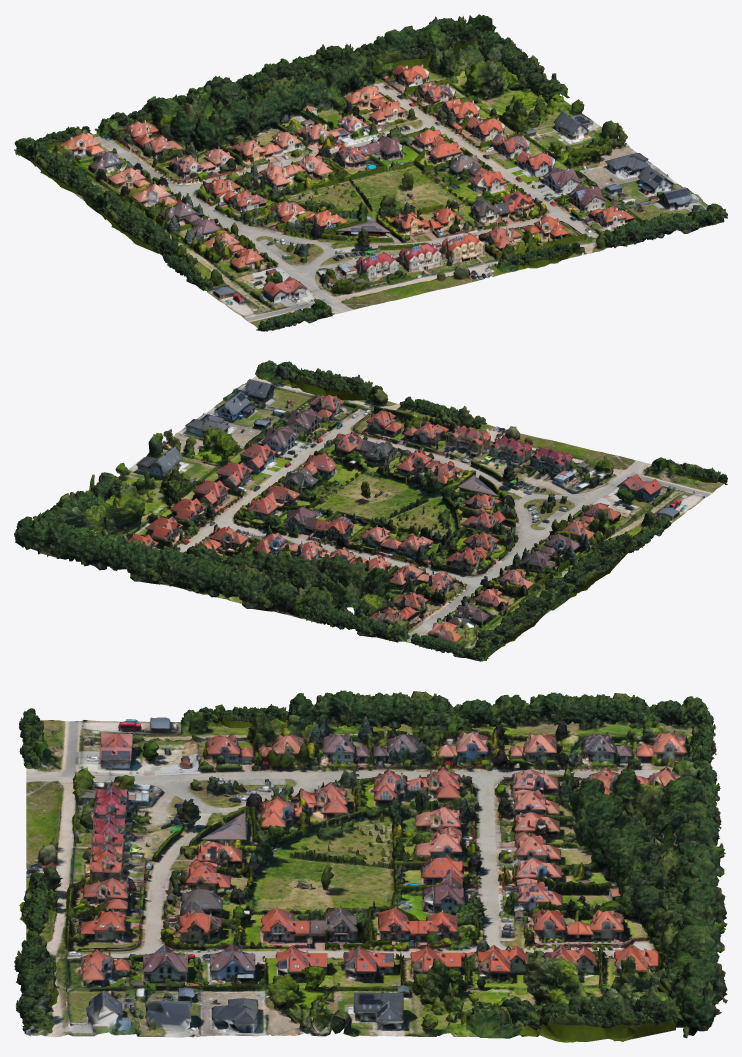
The model's file is wiz1etap.fbx.
3 views of the same model, one above another, from view 1: azimuth 30°, elevation 25°; view 2: azimuth 150°, elevation 25°; view 3: azimuth 270°, elevation 25° (orthographic). The views are drawn at different scales.
Visible parts, largest first — view 1: wiz1etap; view 2: wiz1etap; view 3: wiz1etap.
Boxes of the visible parts, left/top/right/bottom form: wiz1etap: left=14, top=14, right=727, bottom=331; wiz1etap: left=14, top=360, right=727, bottom=661; wiz1etap: left=14, top=690, right=727, bottom=1042.
Size of the model in its own units: 285 by 20.18 by 260.
